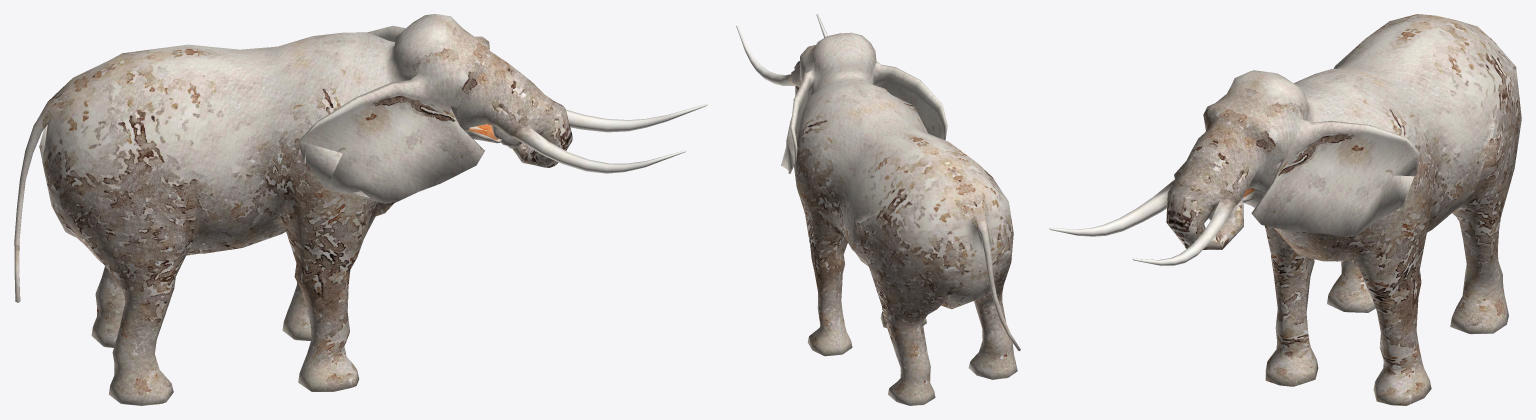
3 renders of one model, left to right at view 1: azimuth 30°, elevation 25°; view 2: azimuth 150°, elevation 25°; view 3: azimuth 270°, elevation 25°, orthographic. The views are drawn at different scales.
Visible parts, largest first — view 1: 动物_大象; view 2: 动物_大象; view 3: 动物_大象.
Boxes of the visible parts, x1=… form: 动物_大象: x1=14, y1=14, x2=707, y2=405; 动物_大象: x1=736, y1=14, x2=1020, y2=405; 动物_大象: x1=1049, y1=14, x2=1521, y2=405.
Size of the model in its own units: 6.89 by 4.33 by 5.35.
Materials: 1 (1 with a texture image).
